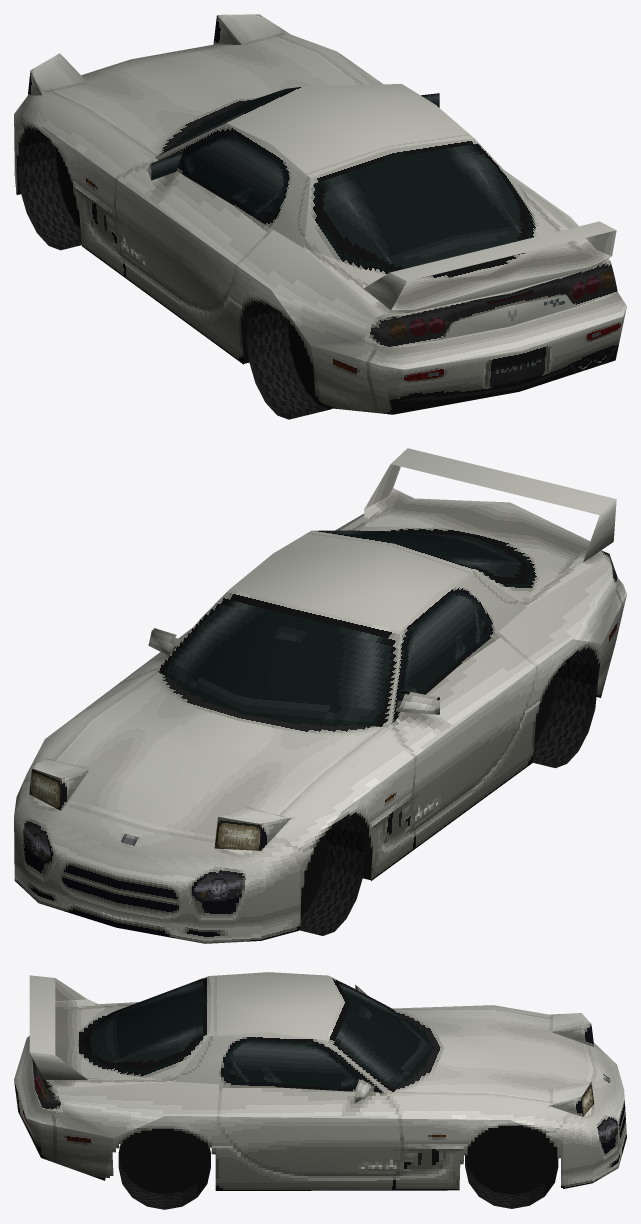
Rendered from night.glb.
3 views of the same model, one above another, from view 1: azimuth 30°, elevation 25°; view 2: azimuth 150°, elevation 25°; view 3: azimuth 270°, elevation 25° (orthographic). The views are drawn at different scales.
Parts seen in each view (by area): view 1: Native body LOD0, Native wheel 2, Native wheel 0; view 2: Native body LOD0, Native wheel 0, Native wheel 2; view 3: Native body LOD0, Native wheel 1, Native wheel 3.
Part boxes in pixels (left/top/right/bottom): Native body LOD0: left=14, top=14, right=626, bottom=414; Native wheel 2: left=246, top=302, right=332, bottom=419; Native wheel 0: left=17, top=129, right=81, bottom=250; Native body LOD0: left=14, top=448, right=626, bottom=943; Native wheel 0: left=299, top=815, right=365, bottom=935; Native wheel 2: left=532, top=649, right=597, bottom=768; Native body LOD0: left=14, top=972, right=626, bottom=1190; Native wheel 1: left=465, top=1125, right=558, bottom=1208; Native wheel 3: left=118, top=1128, right=210, bottom=1209.
Bounding box in the file's own units: 1.83 × 1.23 × 4.31.
11 materials, 10 textured.
